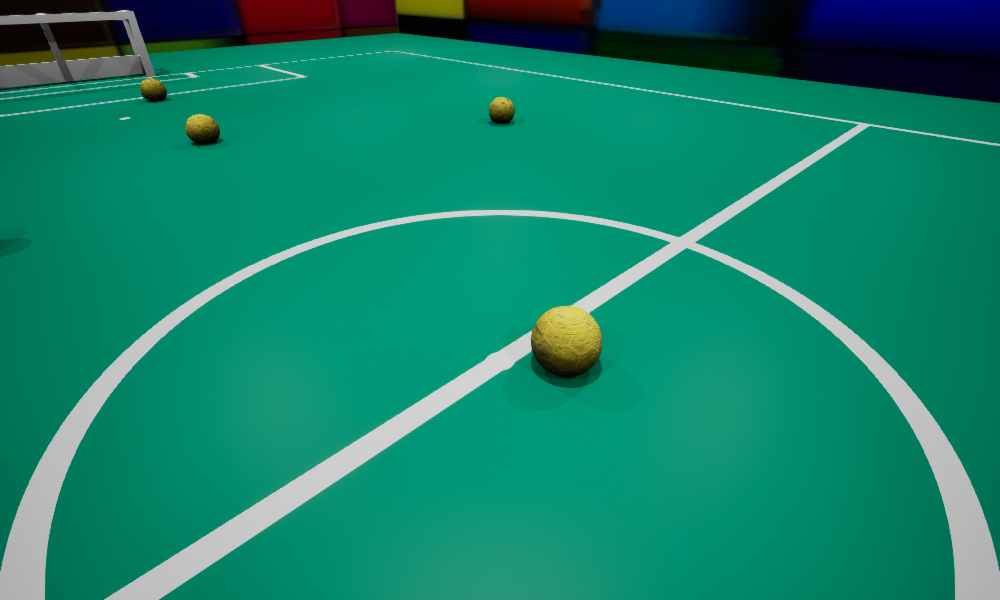b: (531, 306, 601, 376), (185, 114, 219, 142), (489, 97, 514, 123), (140, 78, 166, 99)
g: (0, 10, 155, 87)
